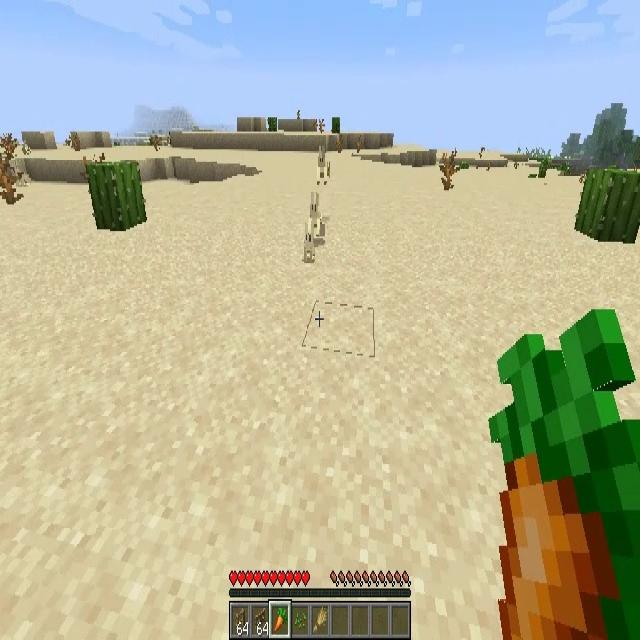rabbit: (306, 190, 321, 234), (304, 222, 316, 262), (314, 148, 328, 182)
